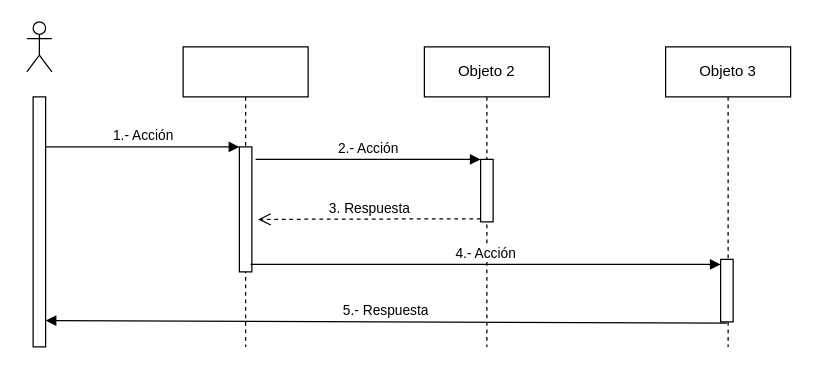
Image size: 813x369. Some labels were removed from this diagram. The shapes that lost their labels are listed below. From the top down, each one's box as (x1, y1, x2, y2) in pixels, then its label:
(26, 21, 52, 72): Actor
(182, 46, 308, 347): Objeto 1
